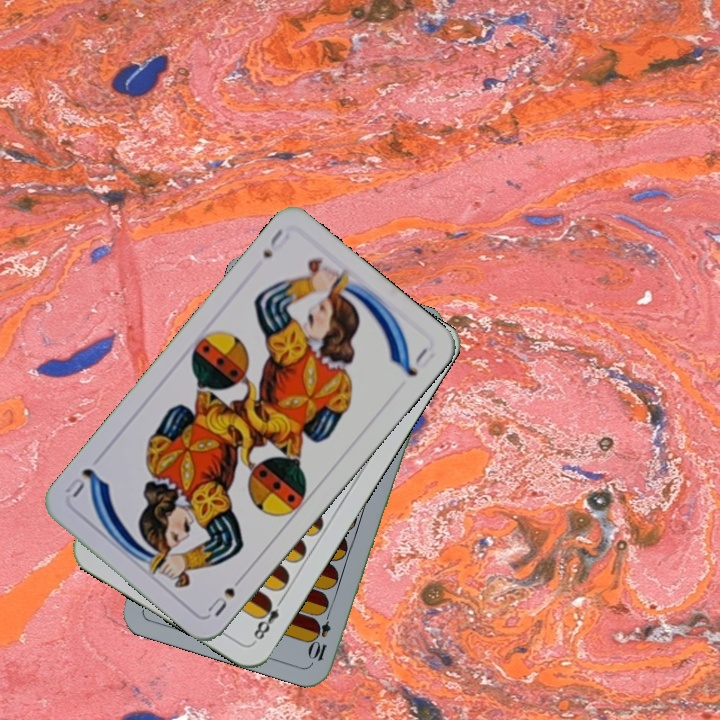E10: (307, 605, 334, 664)
E8: (249, 593, 287, 646)
SU: (203, 569, 248, 619), (258, 224, 292, 261)
